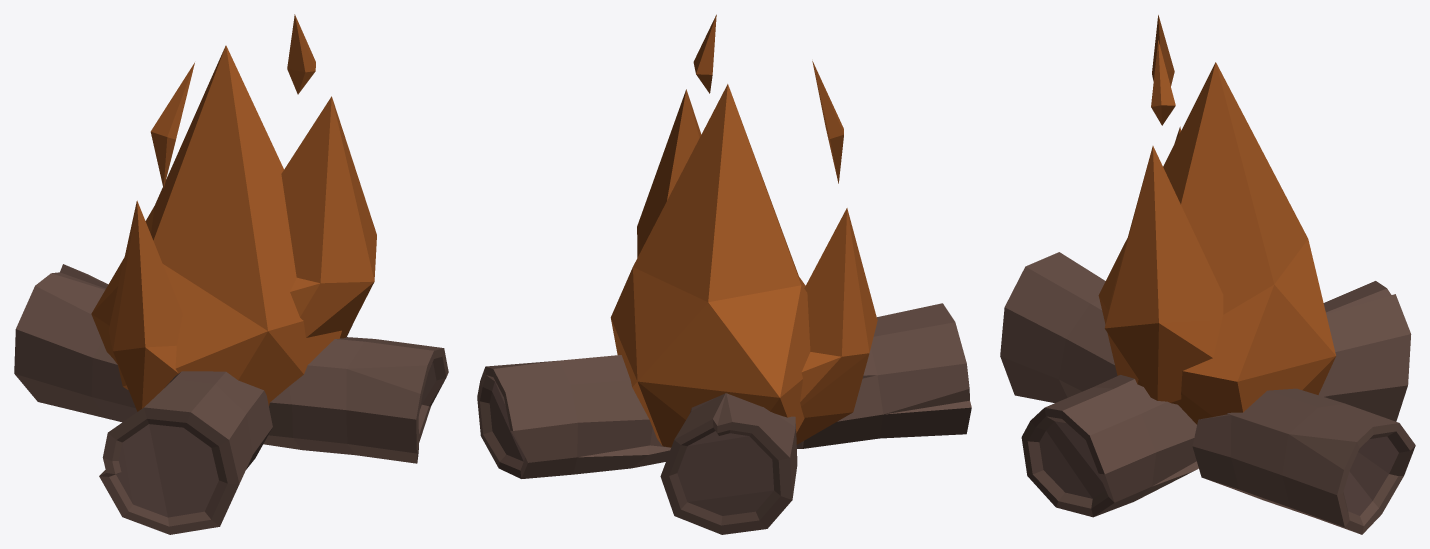
File: Bonfire.glb
The picture shows the model from 3 angles, left to right: view 1: azimuth 30°, elevation 25°; view 2: azimuth 150°, elevation 25°; view 3: azimuth 270°, elevation 25°; orthographic projection. The views are drawn at different scales.
Parts seen in each view (by area): view 1: Bonfire_Fire; view 2: Bonfire_Fire; view 3: Bonfire_Fire.
Boxes of the visible parts, x1=… form: Bonfire_Fire: x1=14, y1=14, x2=448, y2=534; Bonfire_Fire: x1=477, y1=14, x2=971, y2=534; Bonfire_Fire: x1=1000, y1=15, x2=1415, y2=534.
Bounding box in the file's own units: 2.18 × 2.31 × 1.98.
